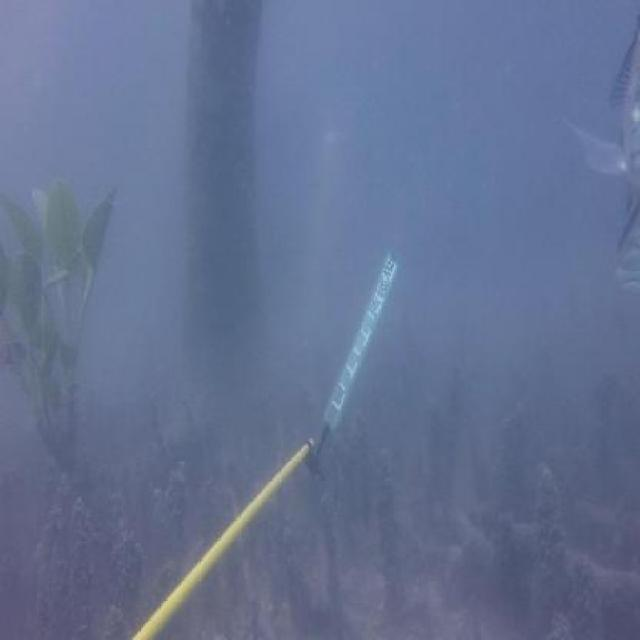acanthopagrus_palmaris: (586, 19, 640, 292)
